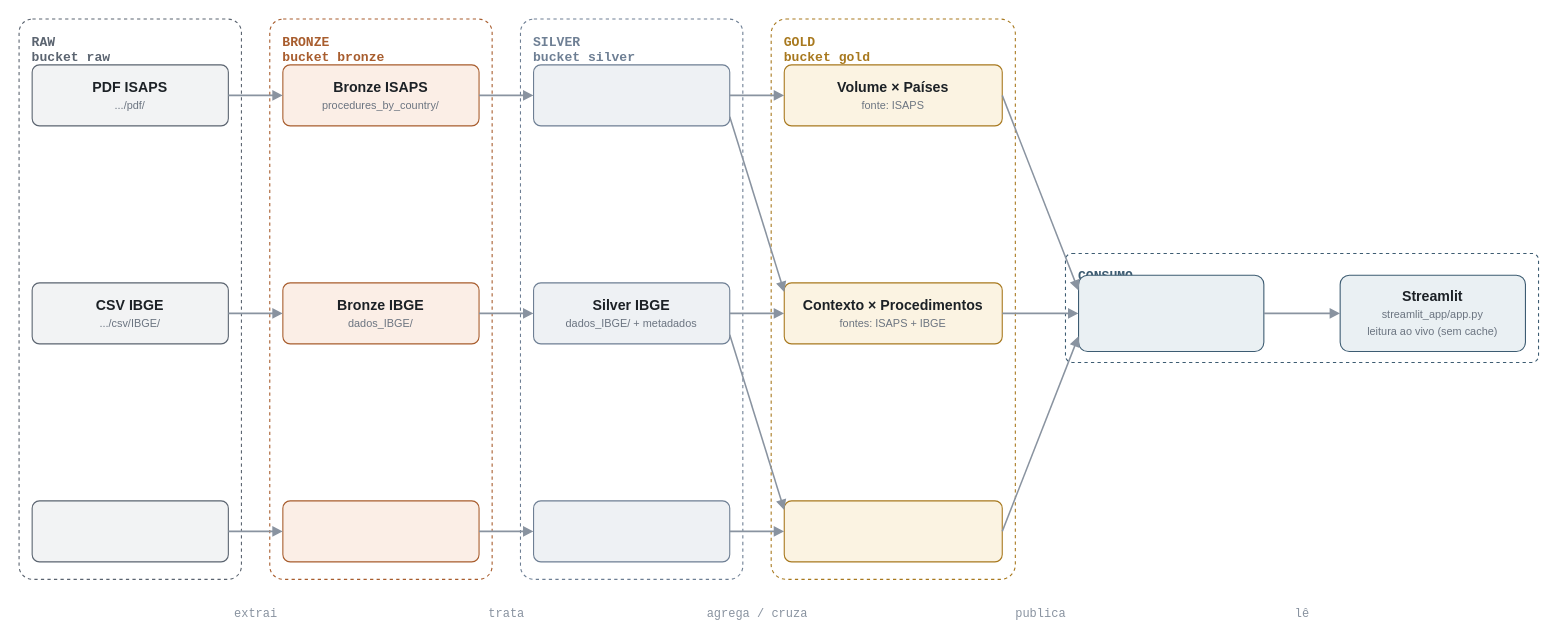
This 1558x644 diagram has some shape labels left out. The centre of each missing label's shape, as x and y in pixels:
Bronze DATASUS dados_DATASUS/: the point at 380,531
CSV DATASUS .../csv/DATASUS/: the point at 129,531
Postgres schema gold · 6 tabelas porta 5434: the point at 1170,313
Procedimentos Reparadores SUS fontes: DATASUS + IBGE: the point at 892,531
Silver DATASUS dados_DATASUS/ + metadados: the point at 631,531
Silver ISAPS procedures_by_country/: the point at 631,95
